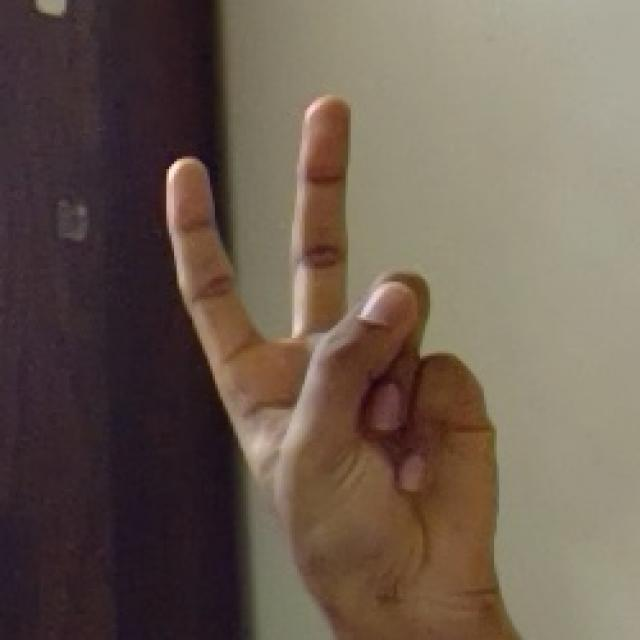Numeric-2: (169, 93, 503, 583)
